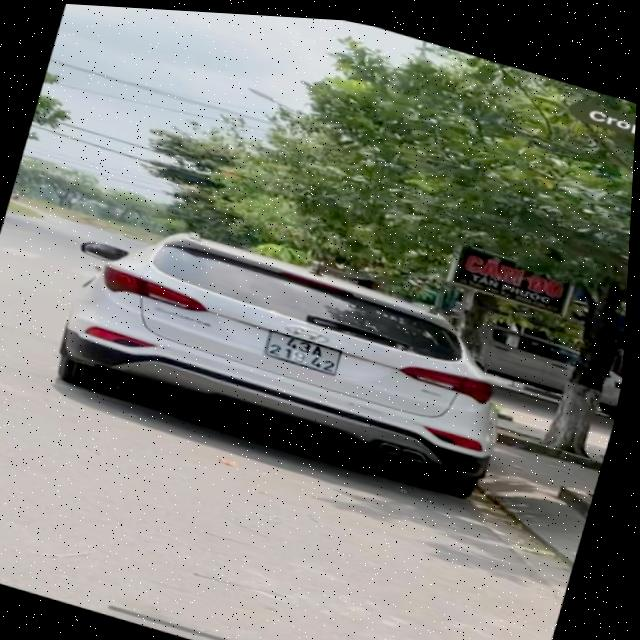car: (25, 192, 548, 522), (258, 324, 347, 377)
plate: (256, 323, 350, 382)
